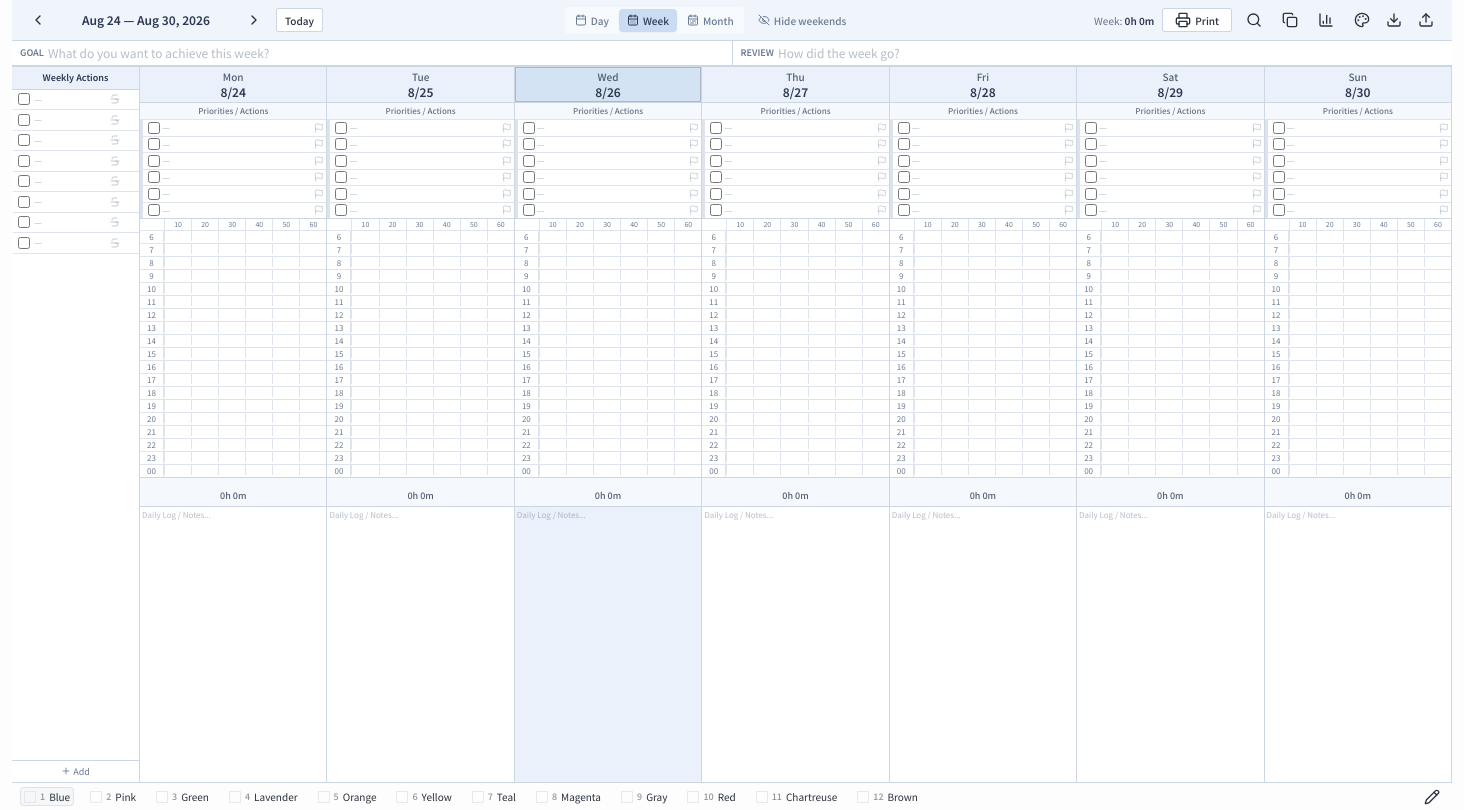
Scenario: StudyPlanner across tabs › reload takes the other tab's version and dismisses
Type "Mine" into the field with placeholder "What do you want to achieve this week?" at (386, 53), box top-left (48, 45), bottom-right (724, 61)
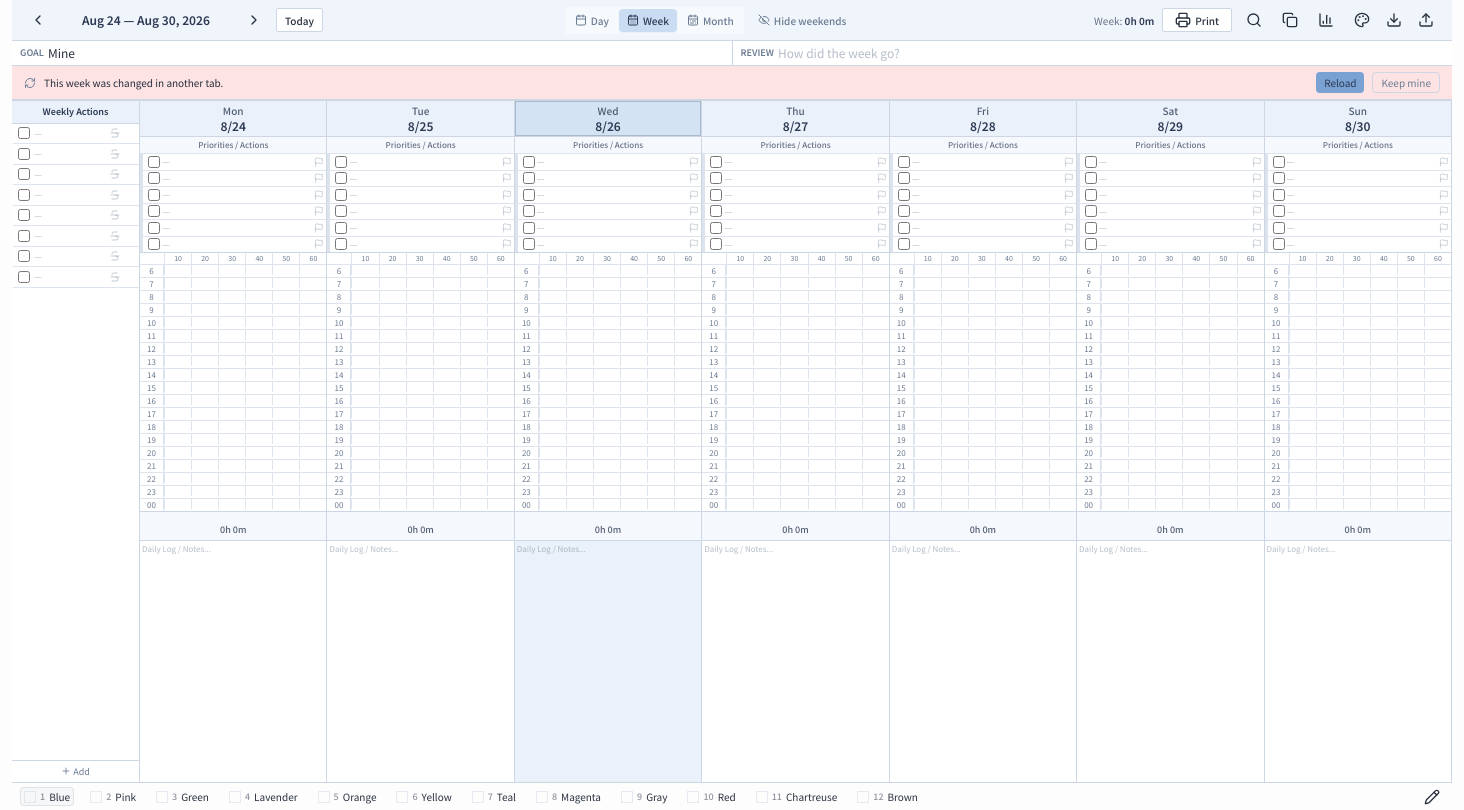
Click the button "Reload" at (1340, 82), box top-left (1316, 72), bottom-right (1364, 93)
Wait 400 ms
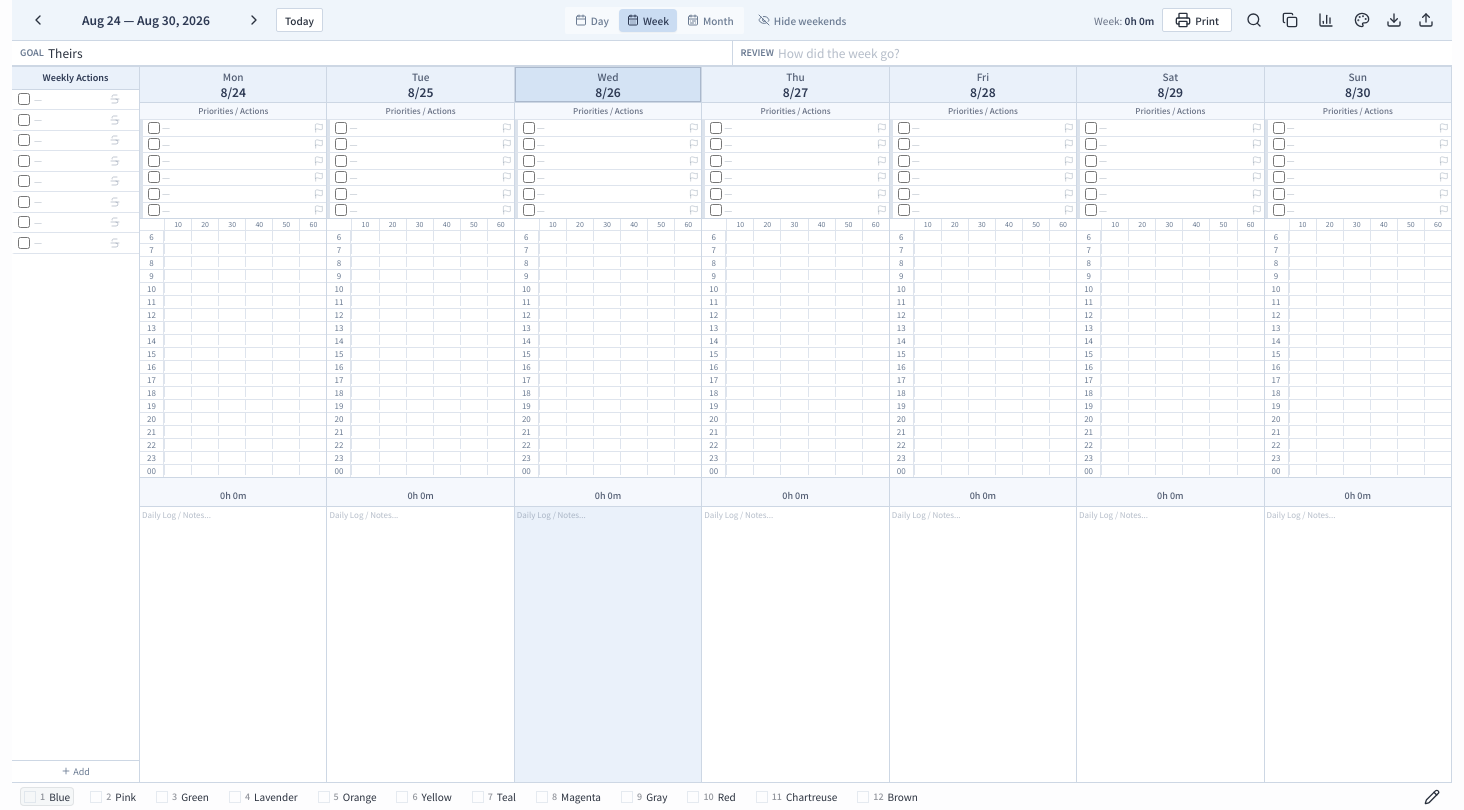
Now the field with placeholder "What do you want to achieve this week?" holds "Theirs", box top-left (48, 45), bottom-right (724, 61)
Now the text "changed in another tab" is gone
